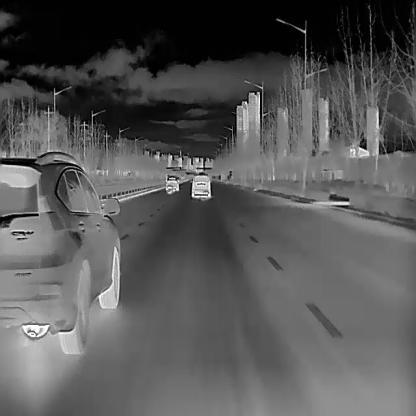car: (0, 150, 120, 353), (190, 174, 211, 199), (164, 174, 179, 192)
